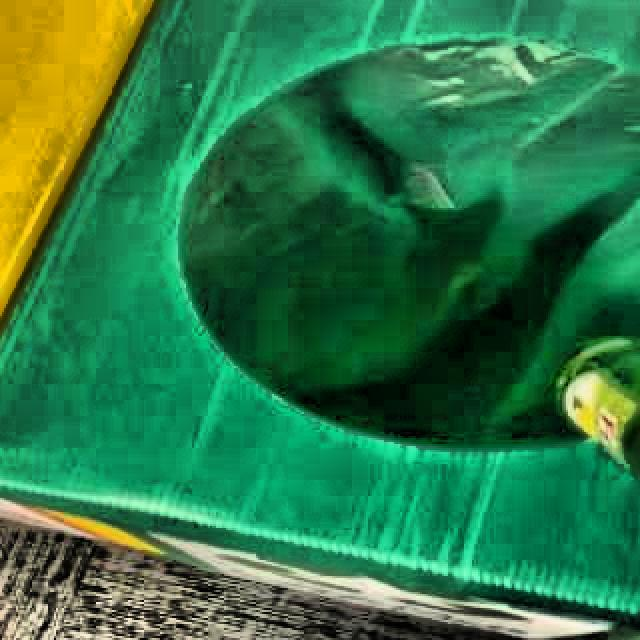glass: (560, 339, 640, 480)
